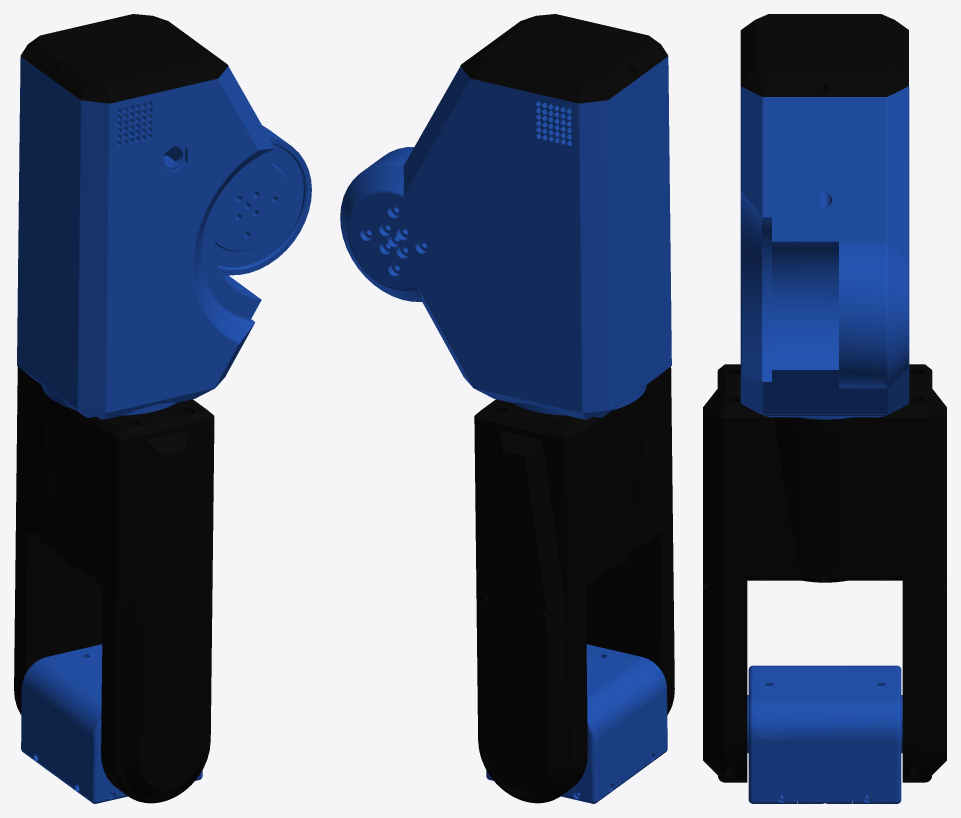
Rendered from robot-arm.glb.
The picture shows the model from 3 angles, left to right: view 1: azimuth 30°, elevation 25°; view 2: azimuth 150°, elevation 25°; view 3: azimuth 270°, elevation 25°; orthographic projection. The views are drawn at different scales.
Visible parts, largest first — view 1: Top Arm A.2 v1, Differential Side Cover v1, Top Arm B.2 v1, Differential body panel (R) v1, Top Arm Bottom Cover v1, Differential motor cover v1, Differential body panel (L) v1, Carrier Cover, Wrist Body Bottom Plate v1, Side Panel L, Side Panel R, Top Arm top cap v1; view 2: Top Arm A.2 v1, Differential Side Cover v1, Top Arm B.2 v1, Differential body panel (L) v1, Top Arm Bottom Cover v1, Differential motor cover v1, Differential body panel (R) v1, Carrier Cover, Wrist Body Bottom Plate v1, Side Panel R, Side Panel L, Top Arm top cap v1; view 3: Top Arm A.2 v1, Differential motor cover v1, Carrier Cover, Top Arm Bottom Cover v1, Top Arm B.2 v1, Differential Side Cover v1 (×2), Differential body panel (L) v1, Differential body panel (R) v1, Wrist Body Bottom Plate v1, Side Panel R, Side Panel L, Carrier Main Body (+1 smaller).
Boxes of the visible parts, x1,y1,x2,y2 form: Top Arm A.2 v1: (17,112,311,413); Differential Side Cover v1: (121,430,208,798); Top Arm B.2 v1: (20,56,255,159); Differential body panel (R) v1: (101,424,214,803); Top Arm Bottom Cover v1: (20,14,228,103); Differential motor cover v1: (27,381,104,587); Differential body panel (L) v1: (14,372,102,714); Carrier Cover: (25,647,102,775); Wrist Body Bottom Plate v1: (17,366,214,445); Side Panel L: (70,713,202,803); Side Panel R: (21,644,102,767); Top Arm top cap v1: (23,370,225,419); Top Arm A.2 v1: (340,112,671,413); Differential Side Cover v1: (479,430,567,798); Top Arm B.2 v1: (433,56,668,159); Differential body panel (L) v1: (474,423,587,803); Top Arm Bottom Cover v1: (460,14,668,103); Differential motor cover v1: (584,381,661,586); Differential body panel (R) v1: (586,372,674,714); Carrier Cover: (586,647,663,775); Wrist Body Bottom Plate v1: (474,366,671,445); Side Panel R: (486,713,618,803); Side Panel L: (586,644,667,766); Top Arm top cap v1: (463,369,666,419); Top Arm A.2 v1: (740,87,909,414); Differential motor cover v1: (747,425,902,582); Carrier Cover: (759,665,890,792); Top Arm Bottom Cover v1: (740,14,908,96); Top Arm B.2 v1: (740,86,908,168); Differential Side Cover v1 (×2): (703,389,946,774); Differential body panel (L) v1: (902,422,932,782); Differential body panel (R) v1: (717,422,747,782); Wrist Body Bottom Plate v1: (717,364,932,432); Side Panel R: (853,665,902,803); Side Panel L: (747,665,796,803); Carrier Main Body: (781,792,869,803).
Bounding box in the file's own units: 221 × 557 × 166.
